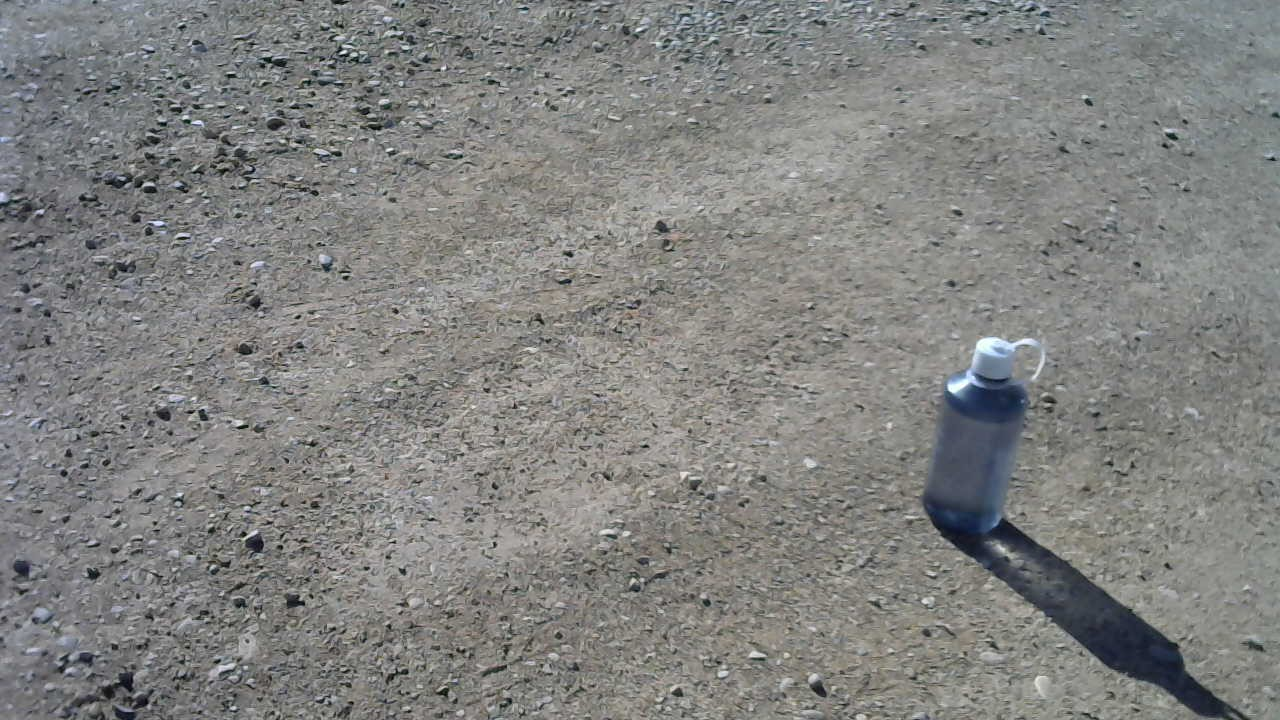bottle: (919, 331, 1053, 538)
